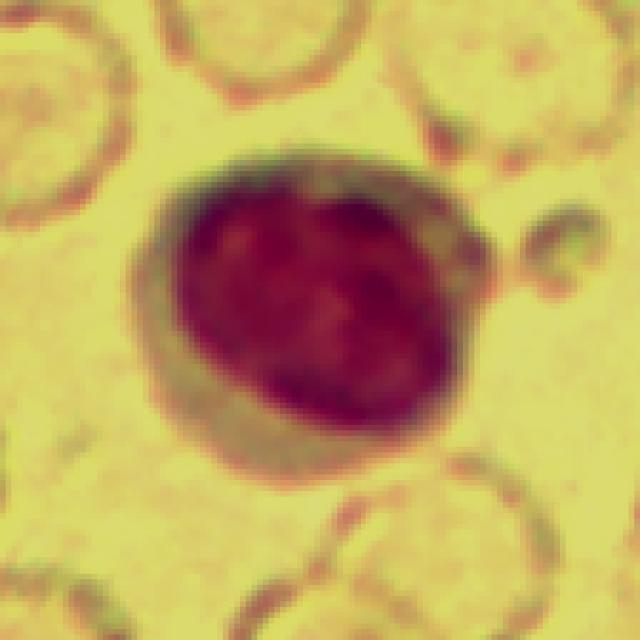WBC: (103, 127, 520, 507)
